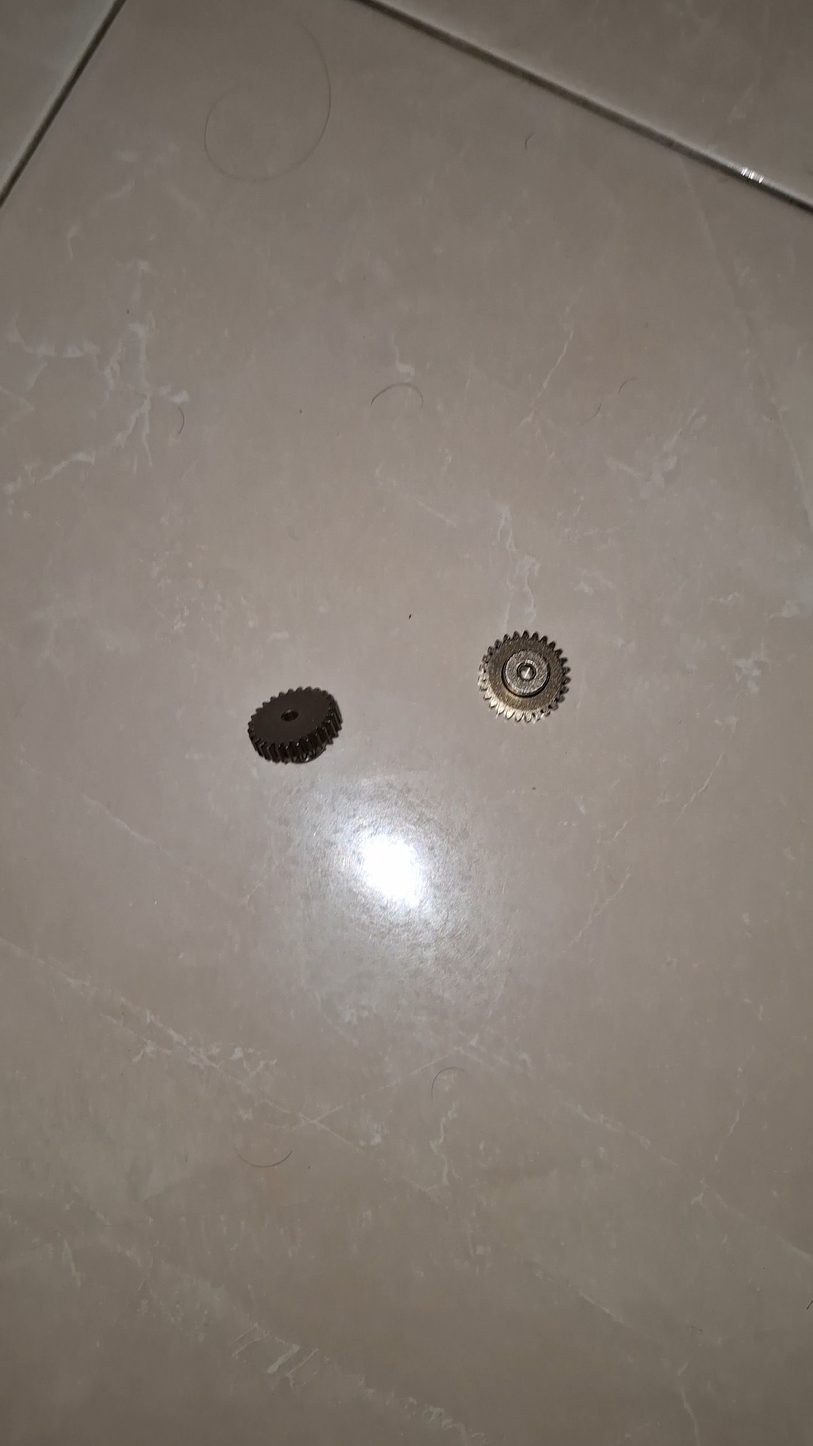spur gear: (479, 631, 569, 721), (248, 687, 341, 763)
